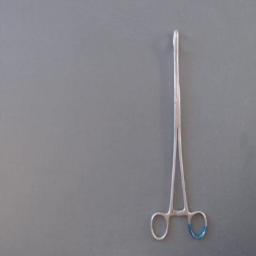Sponge Forceps: (148, 23, 210, 245)
